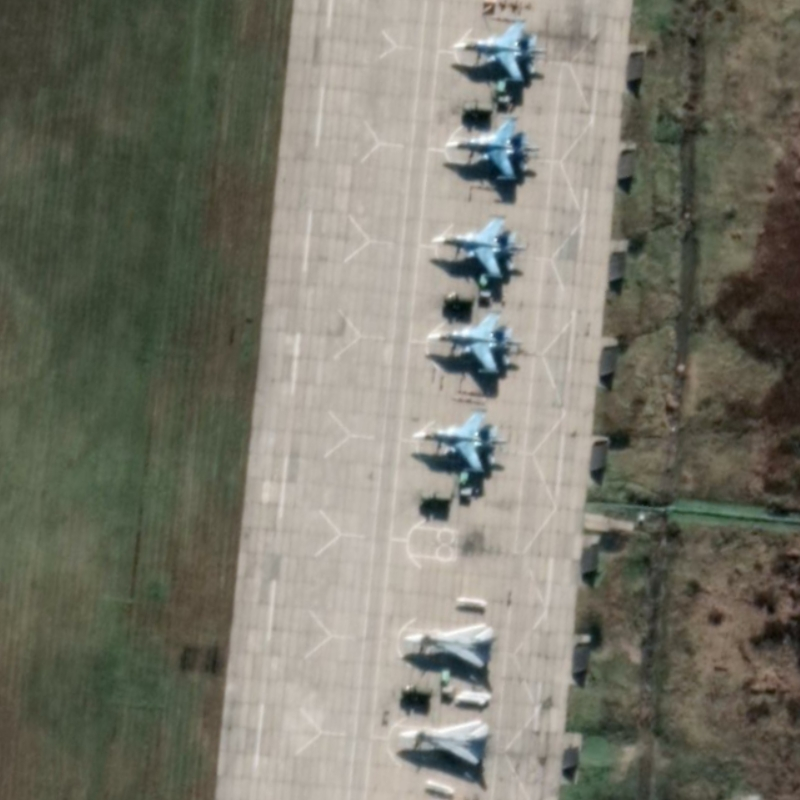A19: (425, 308, 524, 376), (410, 406, 509, 474), (443, 112, 538, 182), (429, 213, 527, 280), (451, 17, 546, 84)
A20: (401, 621, 495, 671), (397, 717, 490, 767)
